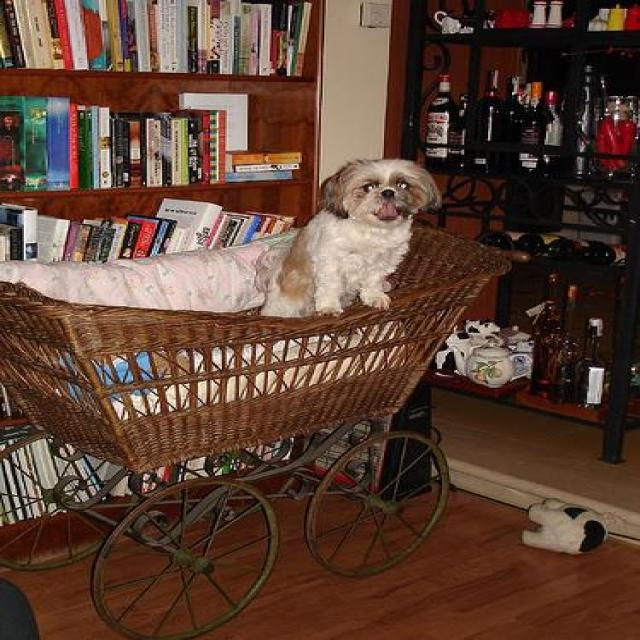shih_tzu: (261, 155, 447, 320)
